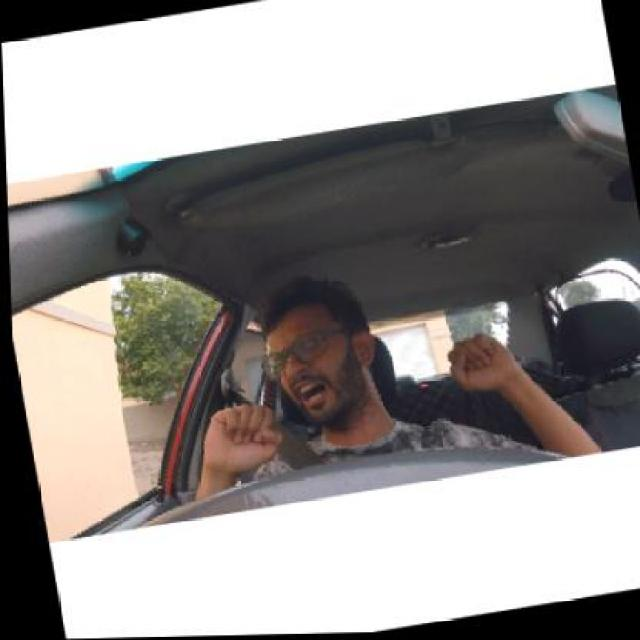drowsy: (256, 273, 380, 432)
